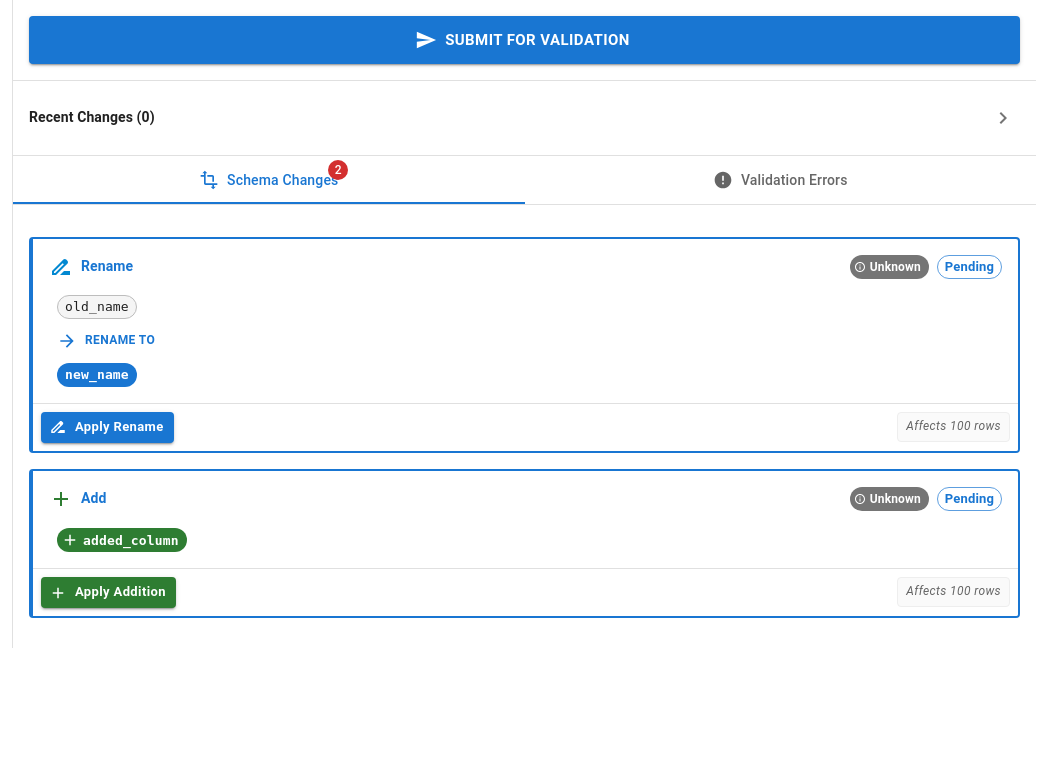
Scenario: ValidationSidebarComponent - Tabbed Interface › shows empty state for validation errors when no errors exist
Switch to validation errors tab
Click the tab "Validation Errors" at (780, 180), box [524,156,1036,204]
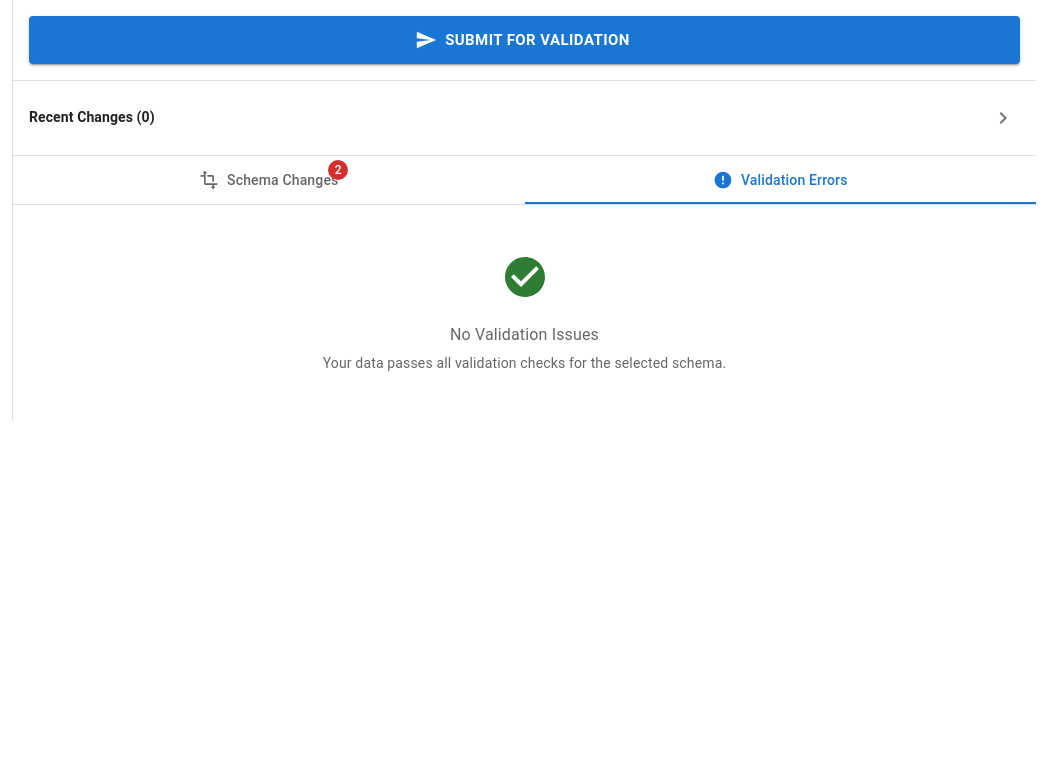
Check: the text "Validation Errors" is shown, box [741,170,848,190]
Check: the text "No Validation Issues" is shown, box [450,325,599,344]
Check: the text "Your data passes all validation checks for the selected schema." is shown, box [323,355,726,371]
